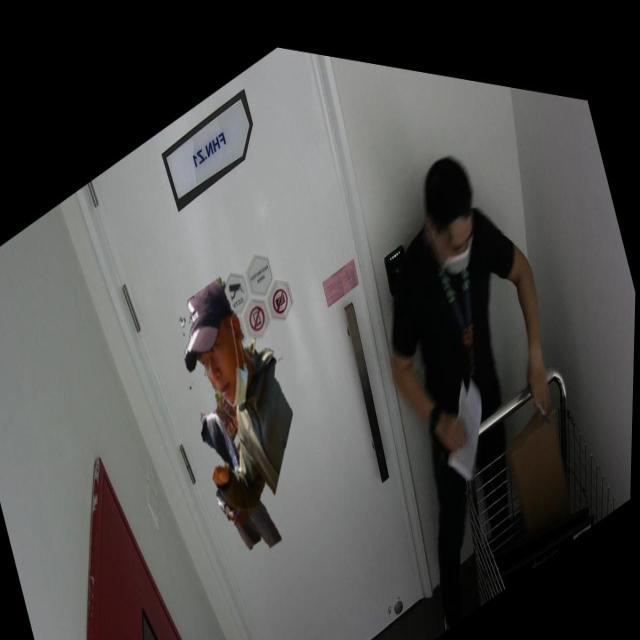hairnet: (197, 301, 260, 421)
